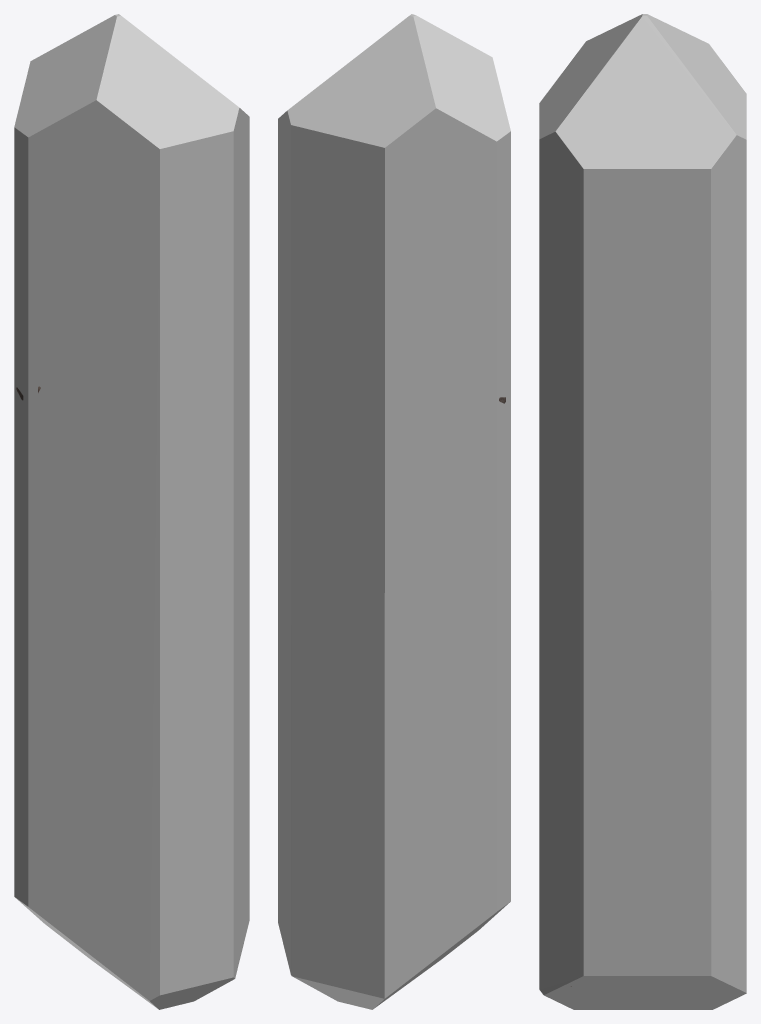
Rendered from SM_Hangman.fbx.
3 renders of one model, left to right at view 1: azimuth 30°, elevation 25°; view 2: azimuth 150°, elevation 25°; view 3: azimuth 270°, elevation 25°, orthographic.
Parts seen in each view (by area): view 1: SM_Hangman_ConvexHulls; view 2: SM_Hangman_ConvexHulls; view 3: SM_Hangman_ConvexHulls.
Part boxes in pixels (x1,y1,x2,y2): SM_Hangman_ConvexHulls: [14, 14, 249, 1009]; SM_Hangman_ConvexHulls: [278, 14, 510, 1009]; SM_Hangman_ConvexHulls: [539, 14, 746, 1009].
Bounding box in the file's own units: 60.66 × 55.21 × 286.
